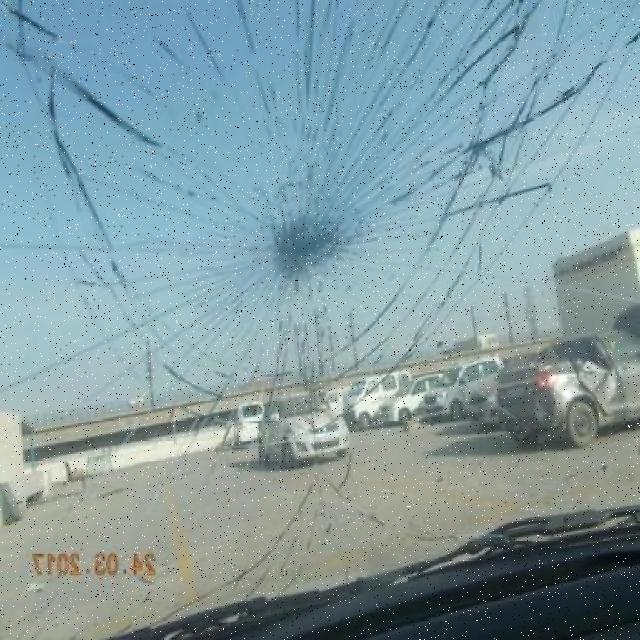damage: (403, 2, 640, 270), (0, 0, 187, 292), (243, 156, 387, 312)
